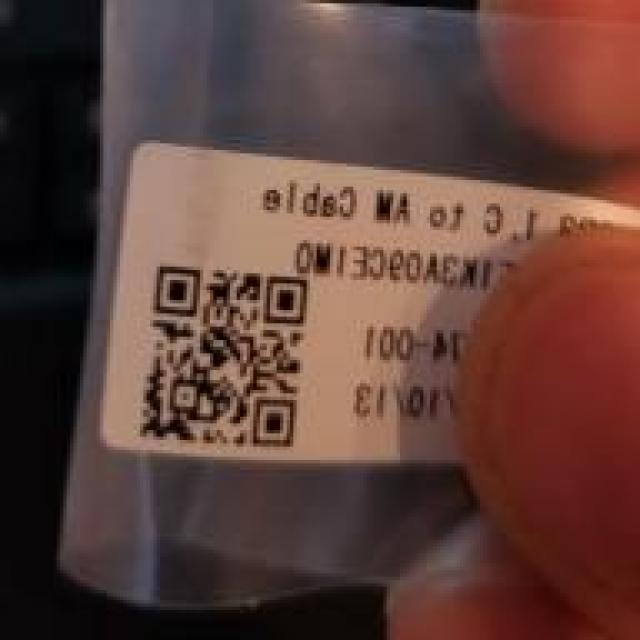qr_code: (139, 266, 309, 448)
